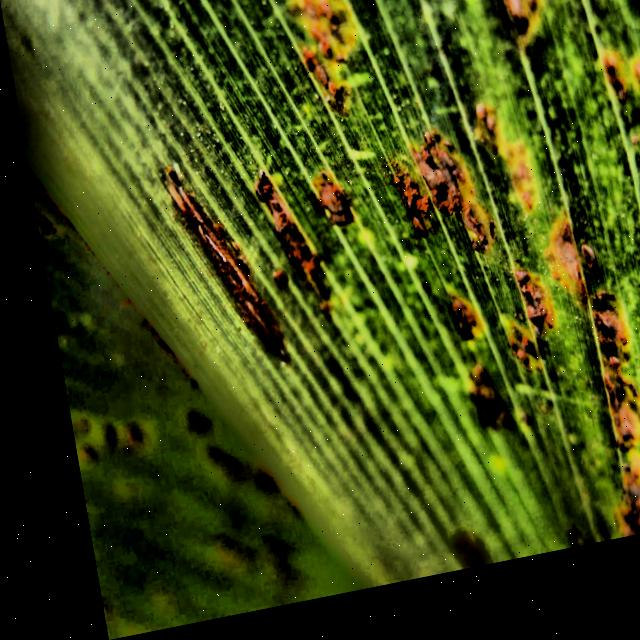common_rust: (60, 0, 640, 628)
